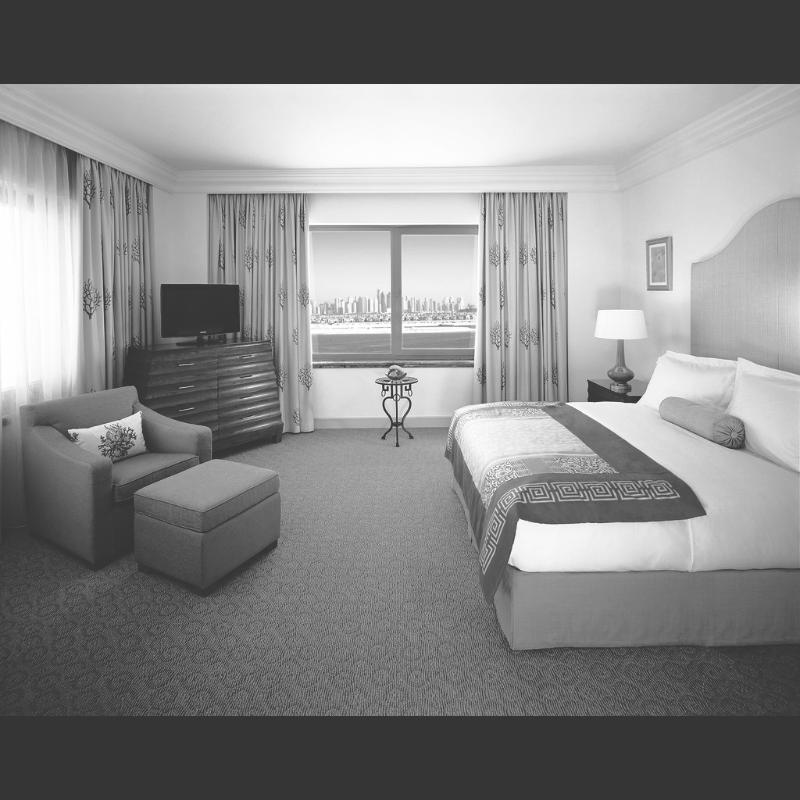pillow: (728, 358, 799, 472), (632, 353, 746, 418), (657, 398, 749, 448), (63, 411, 145, 464)
